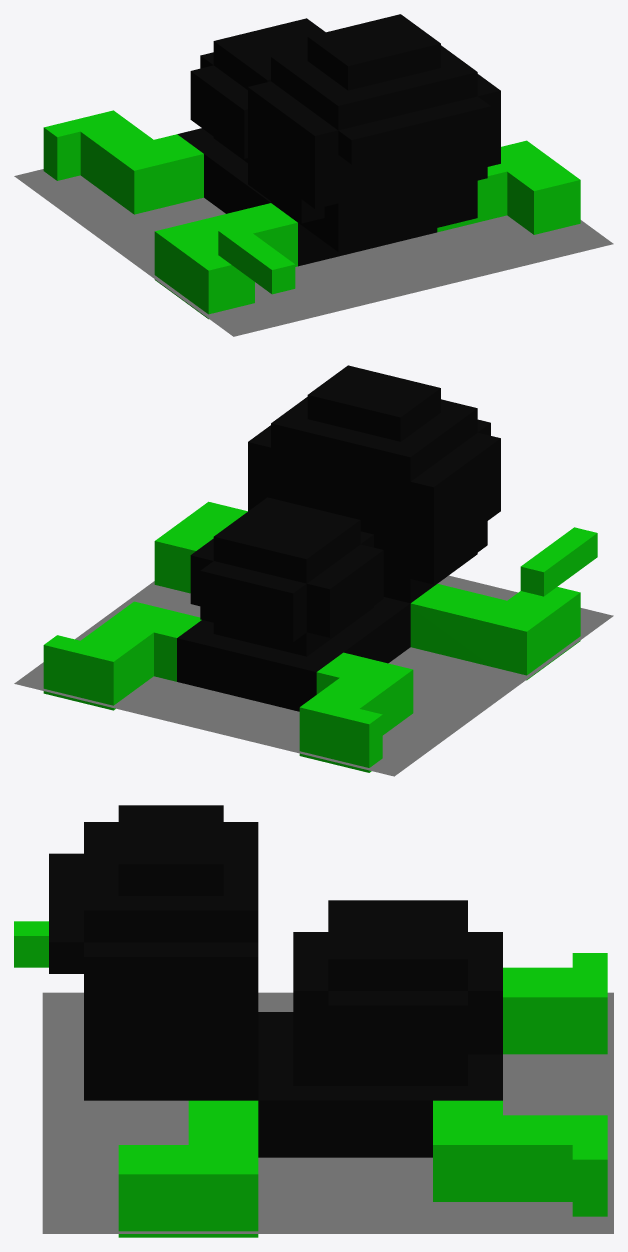
The model's file is snake_unknown_body_v3.FBX.
3 views of the same model, one above another, from view 1: azimuth 30°, elevation 25°; view 2: azimuth 150°, elevation 25°; view 3: azimuth 270°, elevation 25° (orthographic). The views are drawn at different scales.
Visible parts, largest first — view 1: snake_unknown_body_v3, snake_unknown_soft_shadow; view 2: snake_unknown_body_v3, snake_unknown_soft_shadow; view 3: snake_unknown_body_v3, snake_unknown_soft_shadow.
Boxes of the visible parts, left/top/right/bottom form: snake_unknown_body_v3: left=43, top=14, right=580, bottom=319; snake_unknown_soft_shadow: left=14, top=169, right=613, bottom=336; snake_unknown_body_v3: left=43, top=365, right=597, bottom=772; snake_unknown_soft_shadow: left=14, top=575, right=613, bottom=776; snake_unknown_body_v3: left=14, top=805, right=607, bottom=1237; snake_unknown_soft_shadow: left=42, top=992, right=613, bottom=1233.
Size of the model in its own units: 81.79 by 45 by 85.9.
